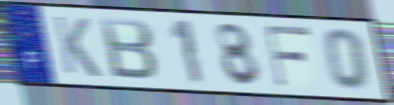0: (321, 26, 374, 93)
1: (169, 18, 206, 87)
8: (215, 21, 264, 88)
B: (97, 15, 161, 83)
F: (263, 24, 313, 89)
K: (50, 13, 103, 80)
